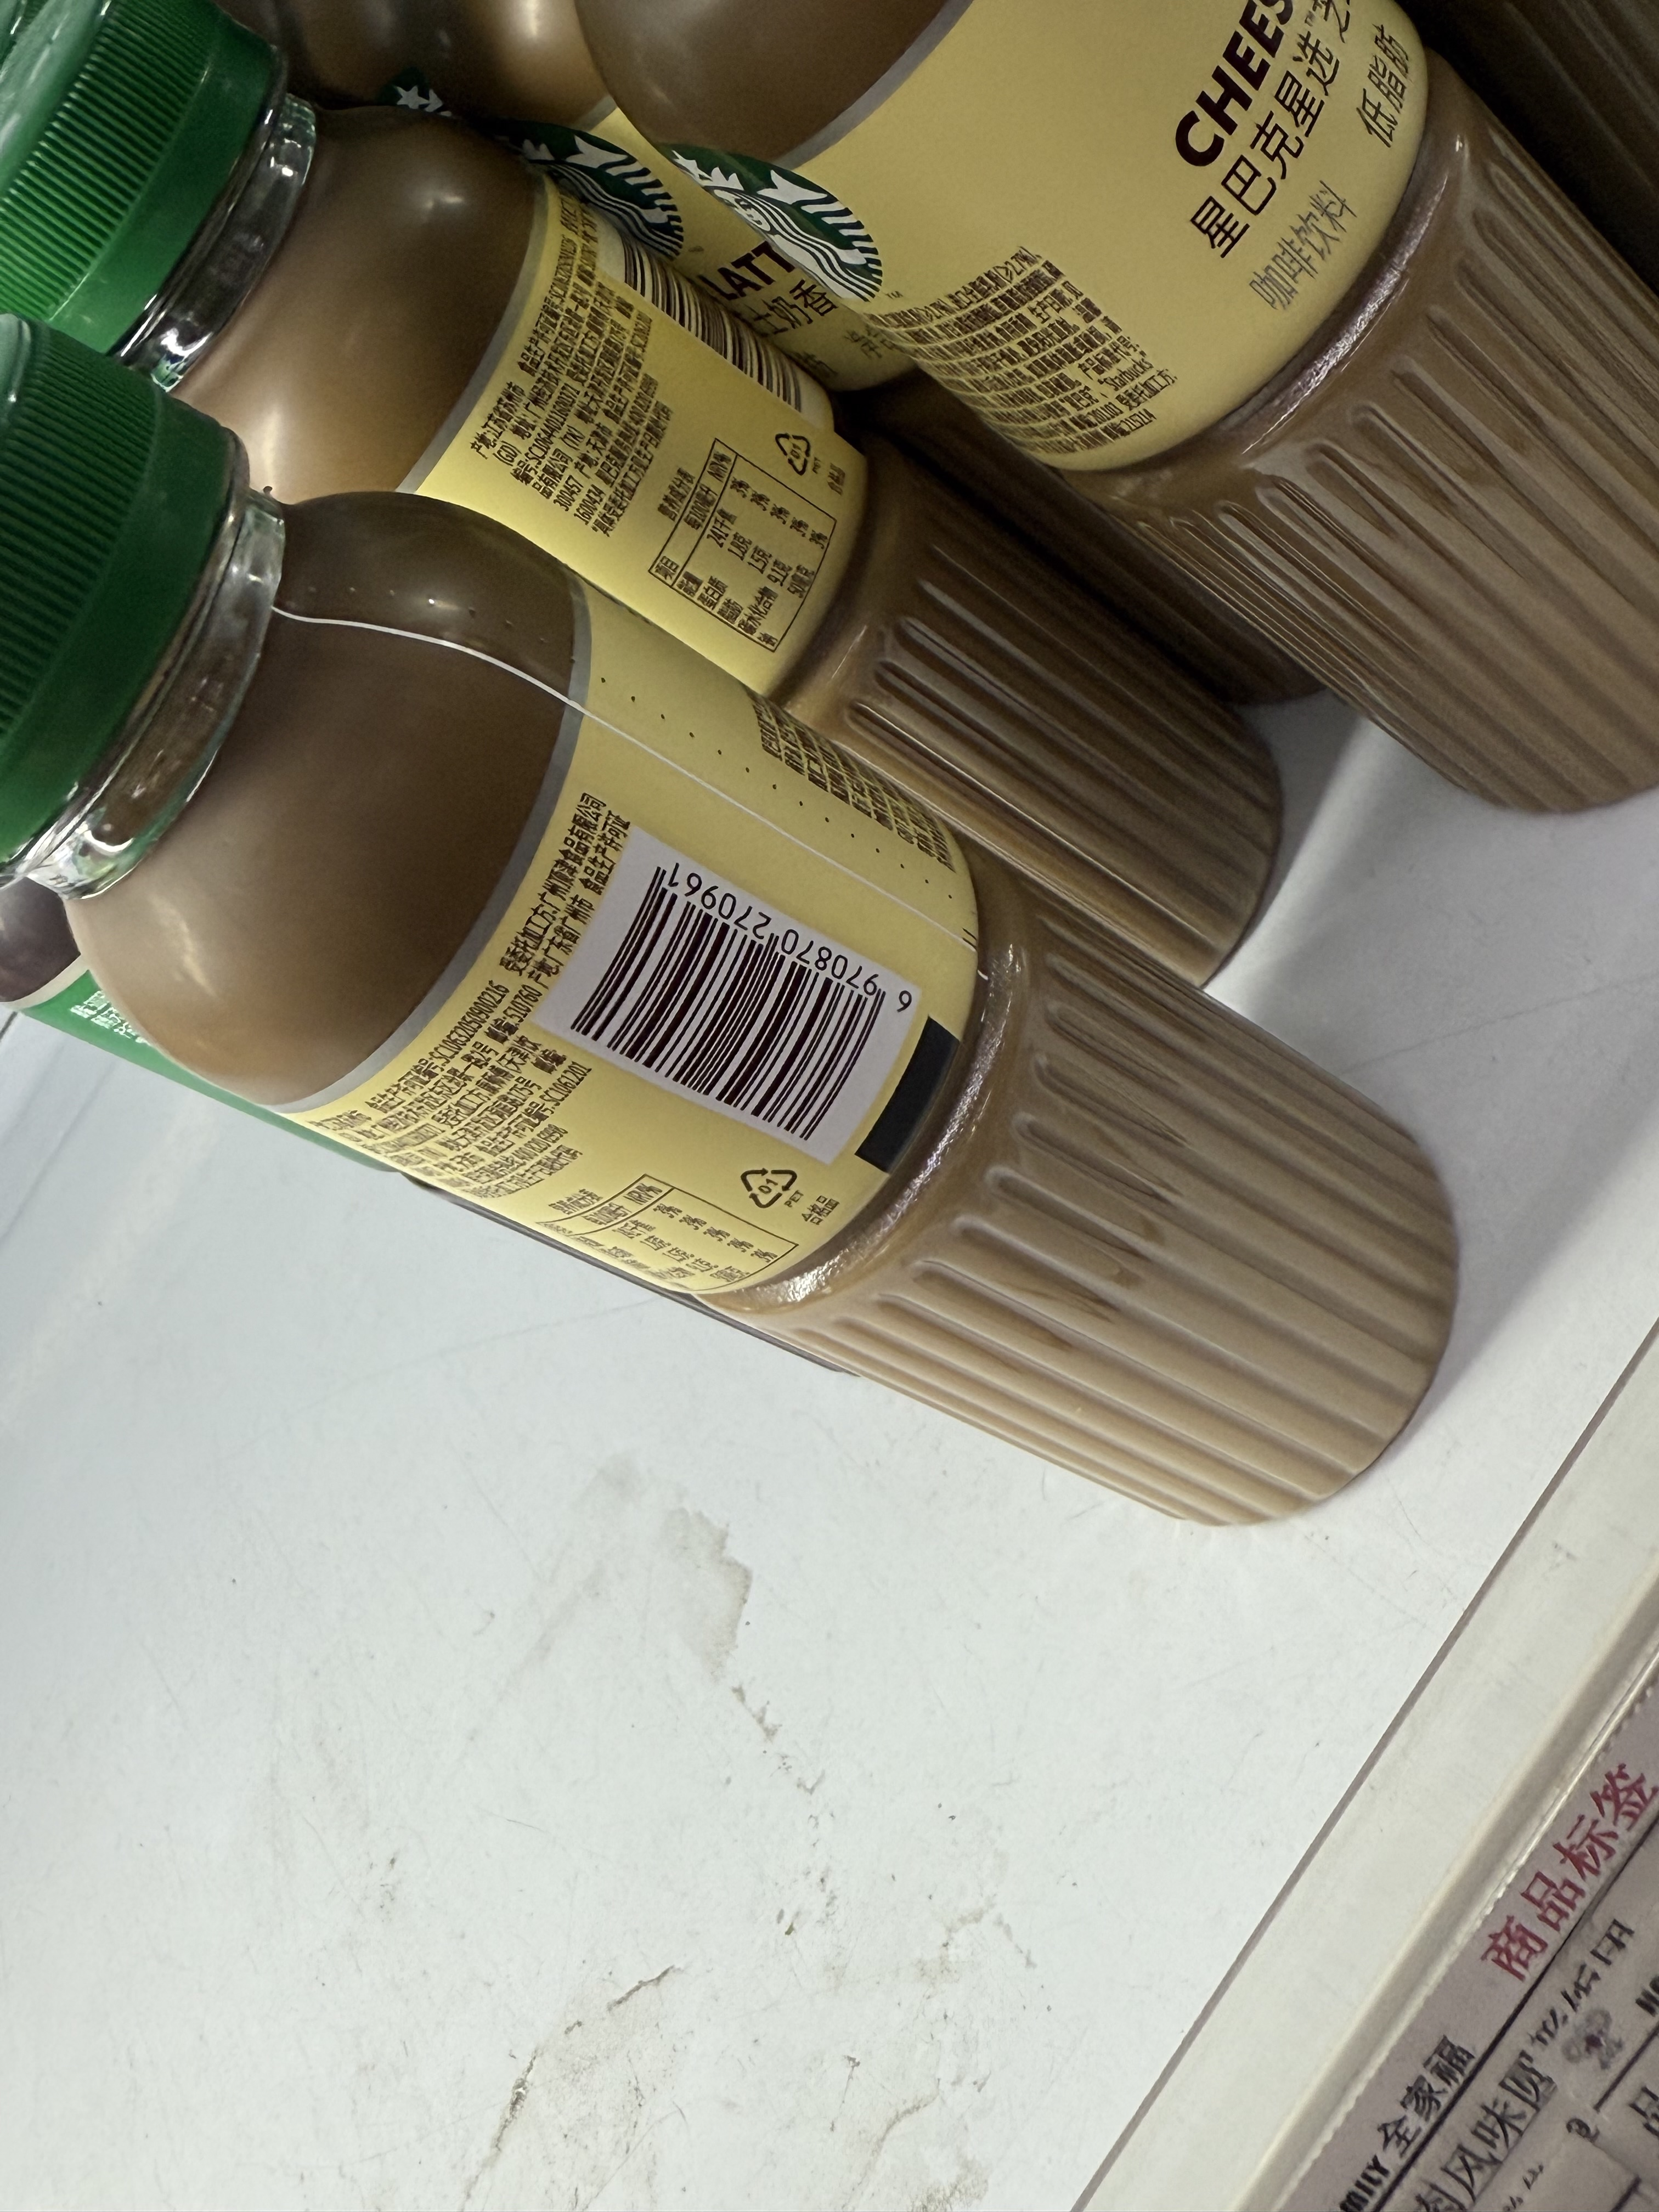bar: (563, 857, 894, 1151)
